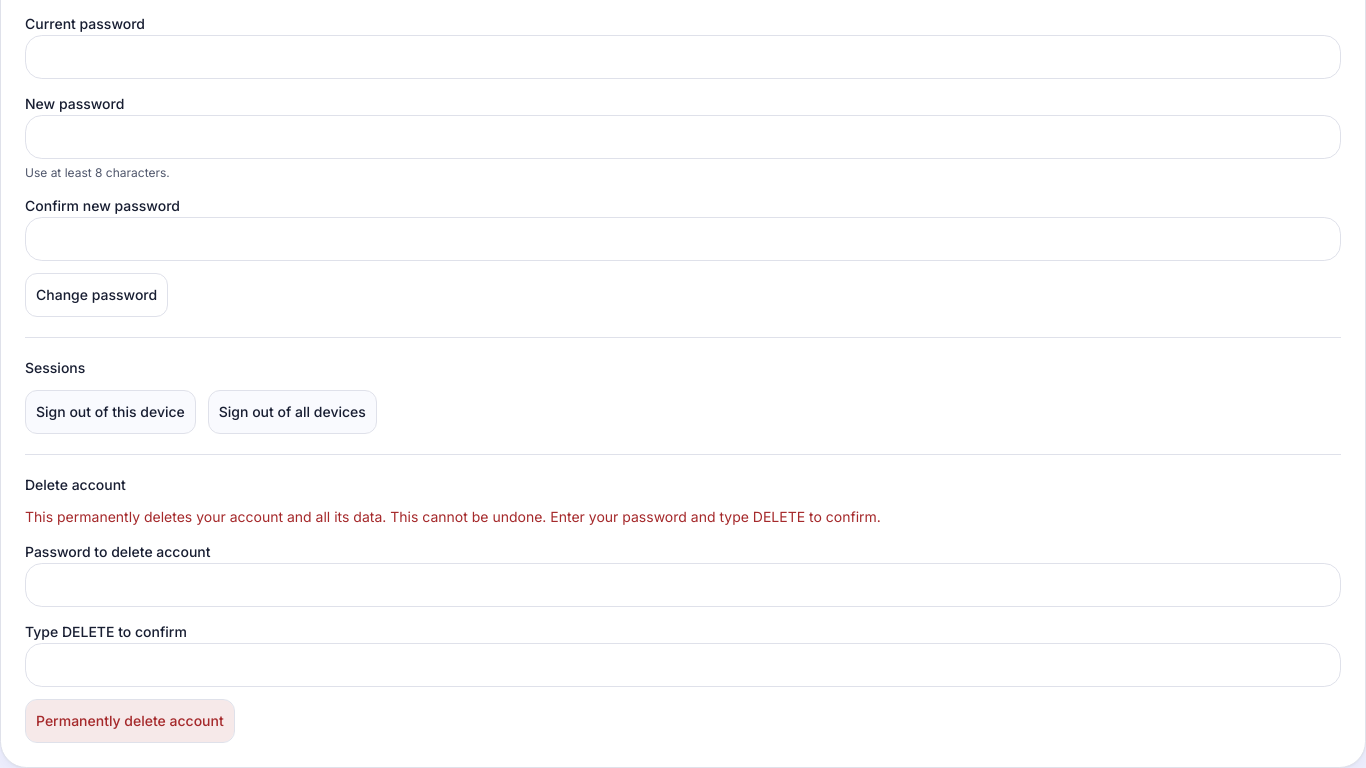
Test: account security › blocks Sign out of this device when changes become pending after render
(page scrolled)
Type "password123" into the password field labelled "Password to delete account" at (683, 585), box [25,563,1341,607]
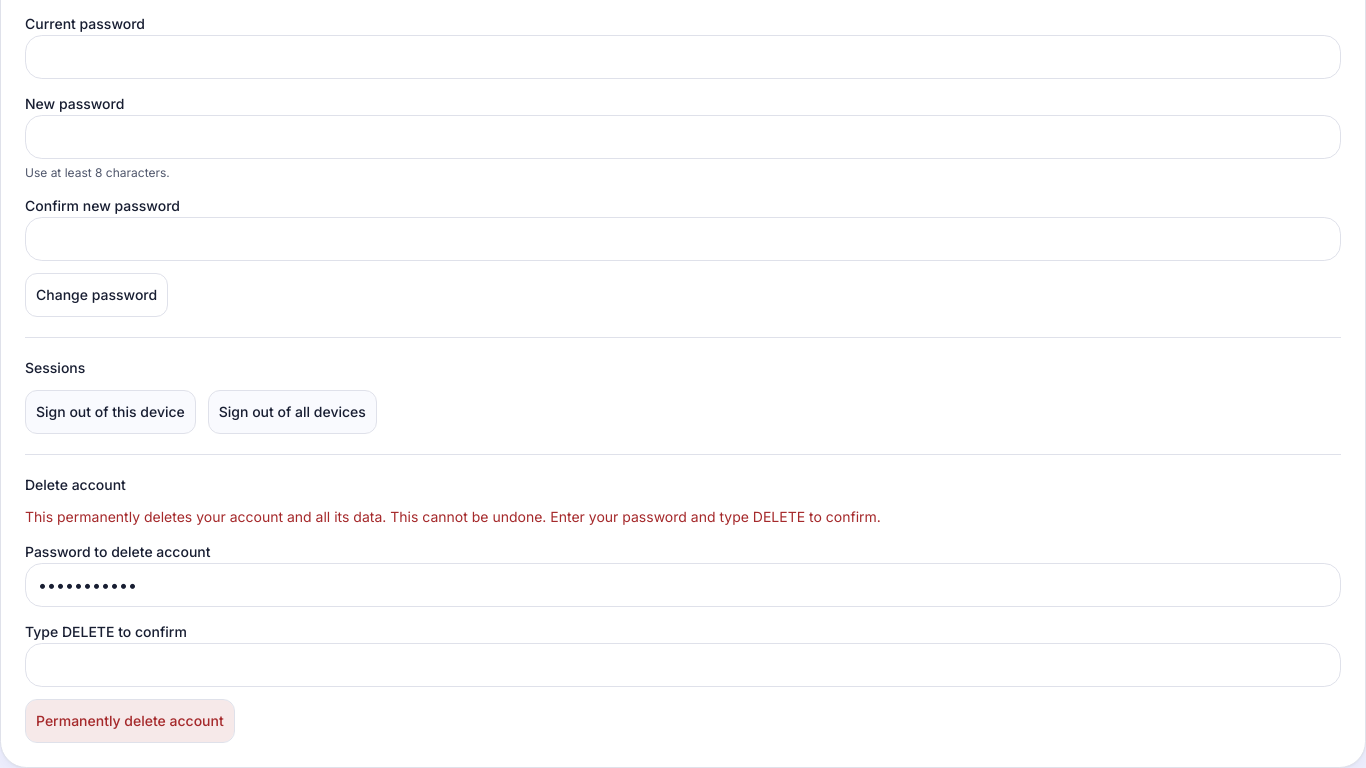
Type "DELETE" into the field labelled "Type DELETE to confirm" at (683, 665), box [25,643,1341,687]
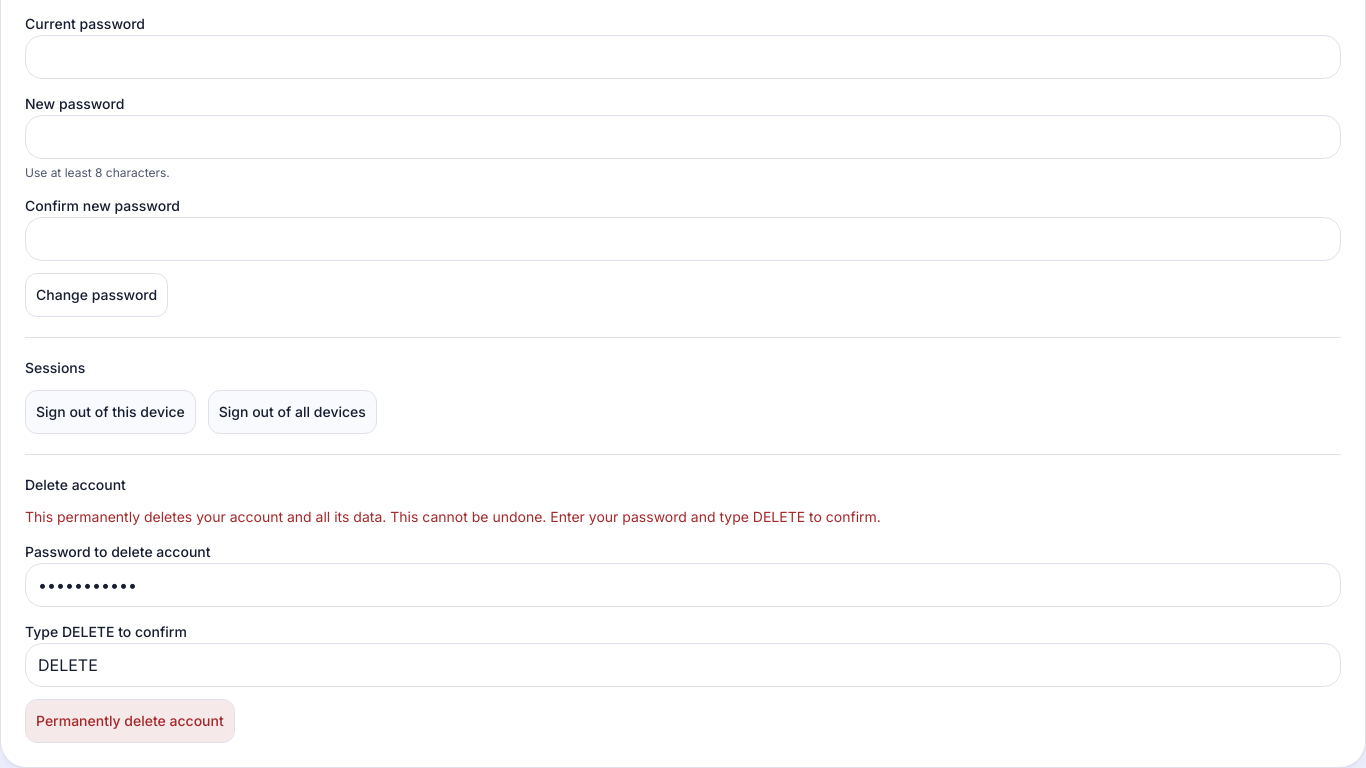
Click the button "Sign out of this device" at (110, 412), box [25,390,196,434]
(page scrolled)
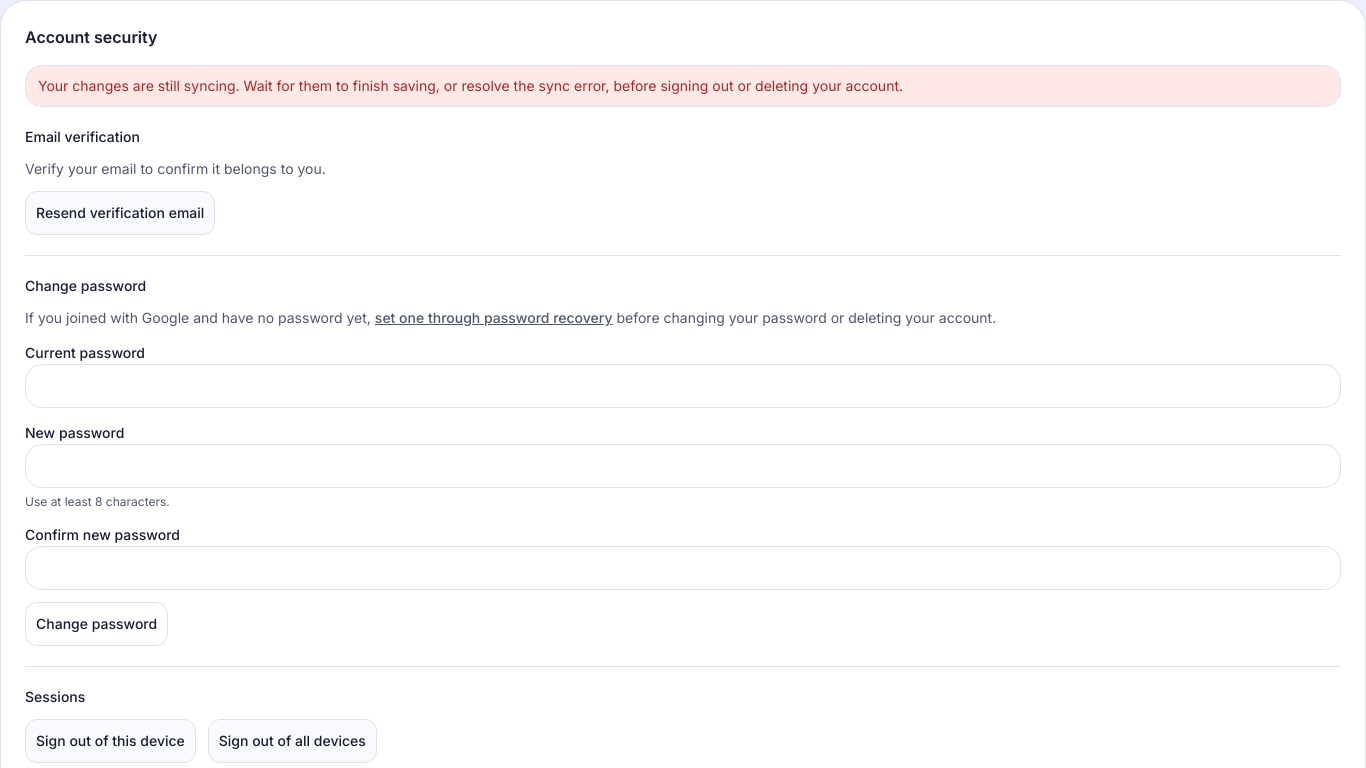
Check: the message shows "Your changes are still syncing", box [38,77,903,94]
